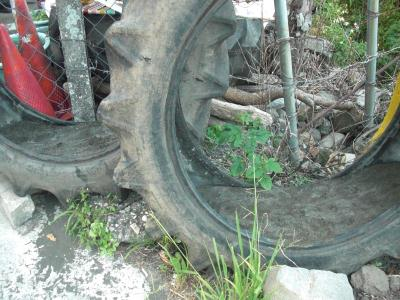tire: (92, 1, 400, 280)
